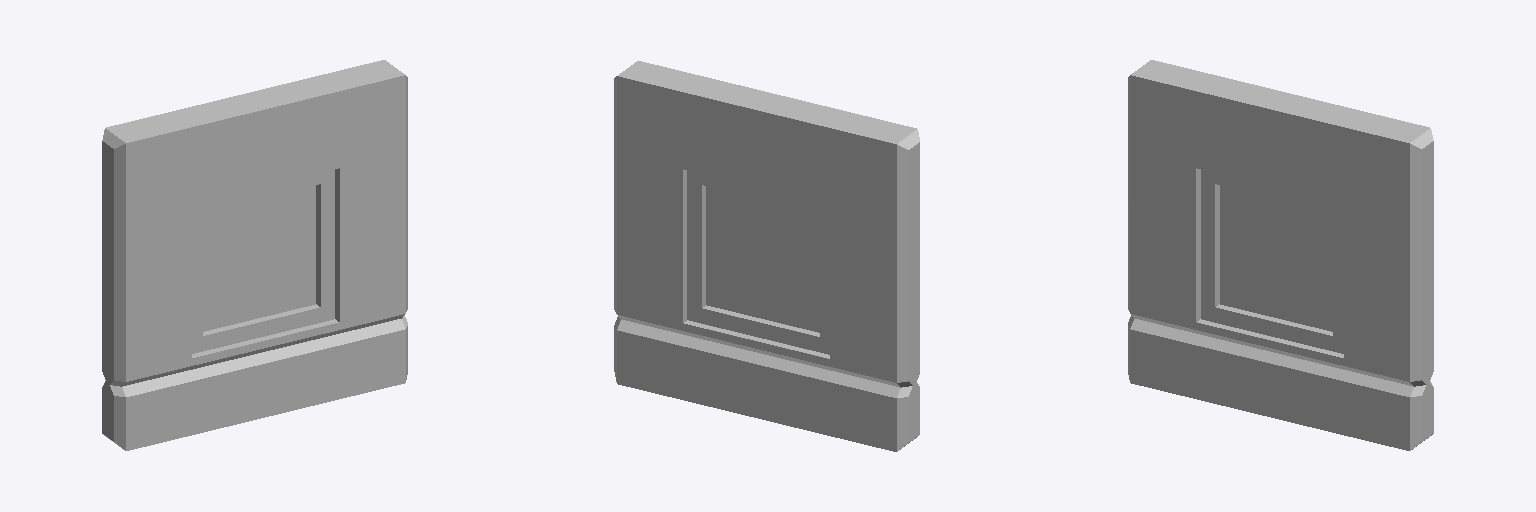
The model's file is Wall_Window_Closed.obj.
3 renders of one model, left to right at view 1: azimuth 30°, elevation 25°; view 2: azimuth 150°, elevation 25°; view 3: azimuth 330°, elevation 25°, orthographic.
Parts seen in each view (by area): view 1: Wall_Window_Closed_Cube.16096; view 2: Wall_Window_Closed_Cube.16096; view 3: Wall_Window_Closed_Cube.16096.
Part boxes in pixels (x1,y1,x2,y2): Wall_Window_Closed_Cube.16096: (102,60,407,450); Wall_Window_Closed_Cube.16096: (614,61,919,451); Wall_Window_Closed_Cube.16096: (1128,60,1433,450).
Bounding box in the file's own units: 4 × 4 × 0.53.